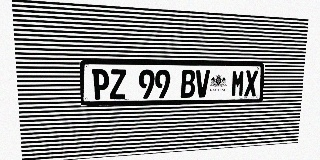9: (139, 69, 155, 99), (155, 69, 170, 98)
B: (180, 70, 195, 98)
M: (231, 70, 245, 97)
P: (92, 69, 109, 100)
V: (195, 70, 210, 97)
X: (244, 70, 258, 96)
Z: (110, 69, 126, 99)
